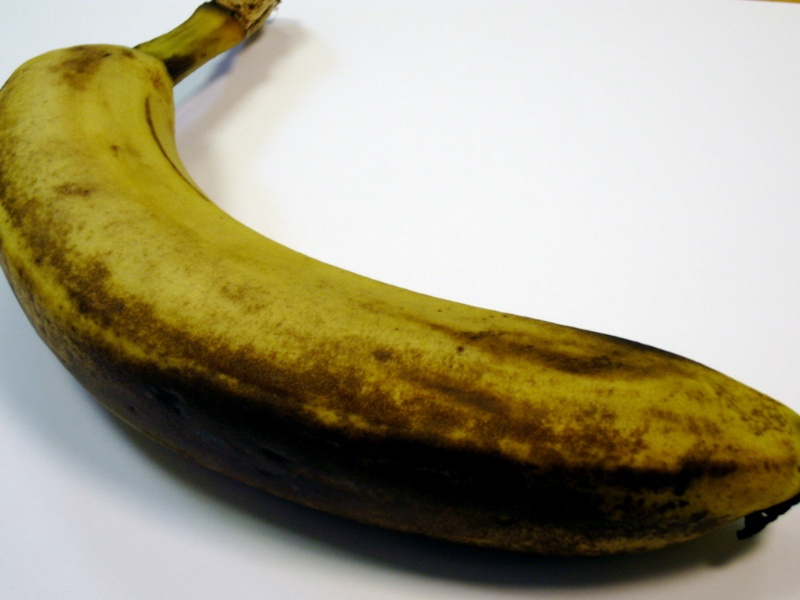banana: (4, 1, 800, 574)
